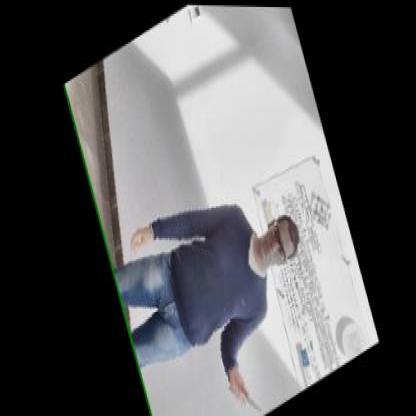knife: (220, 361, 262, 411)
